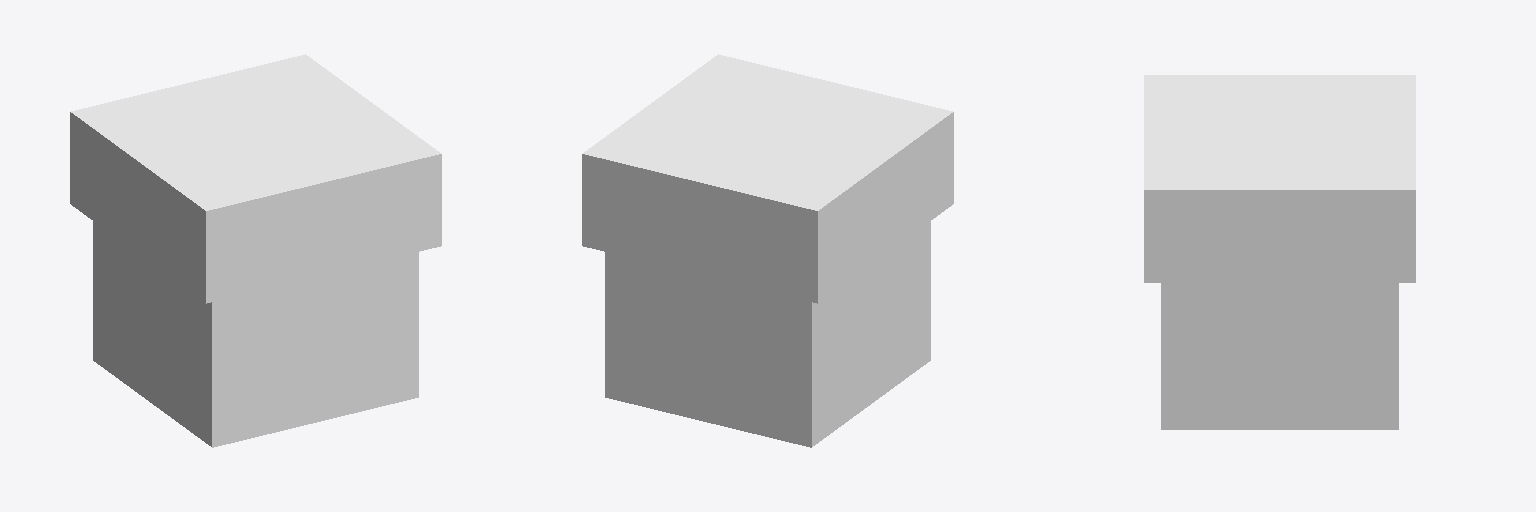
The model's file is ziemia-0-ziemia.obj.
The picture shows the model from 3 angles: view 1: azimuth 30°, elevation 25°; view 2: azimuth 150°, elevation 25°; view 3: azimuth 270°, elevation 25°; orthographic projection.
Parts seen in each view (by area): view 1: ziemia; view 2: ziemia; view 3: ziemia.
Boxes of the visible parts, x1,y1,x2,y2 form: ziemia: [70, 54, 441, 447]; ziemia: [582, 54, 953, 447]; ziemia: [1144, 75, 1415, 429].
Size of the model in its own units: 1.6 by 1.6 by 1.6.